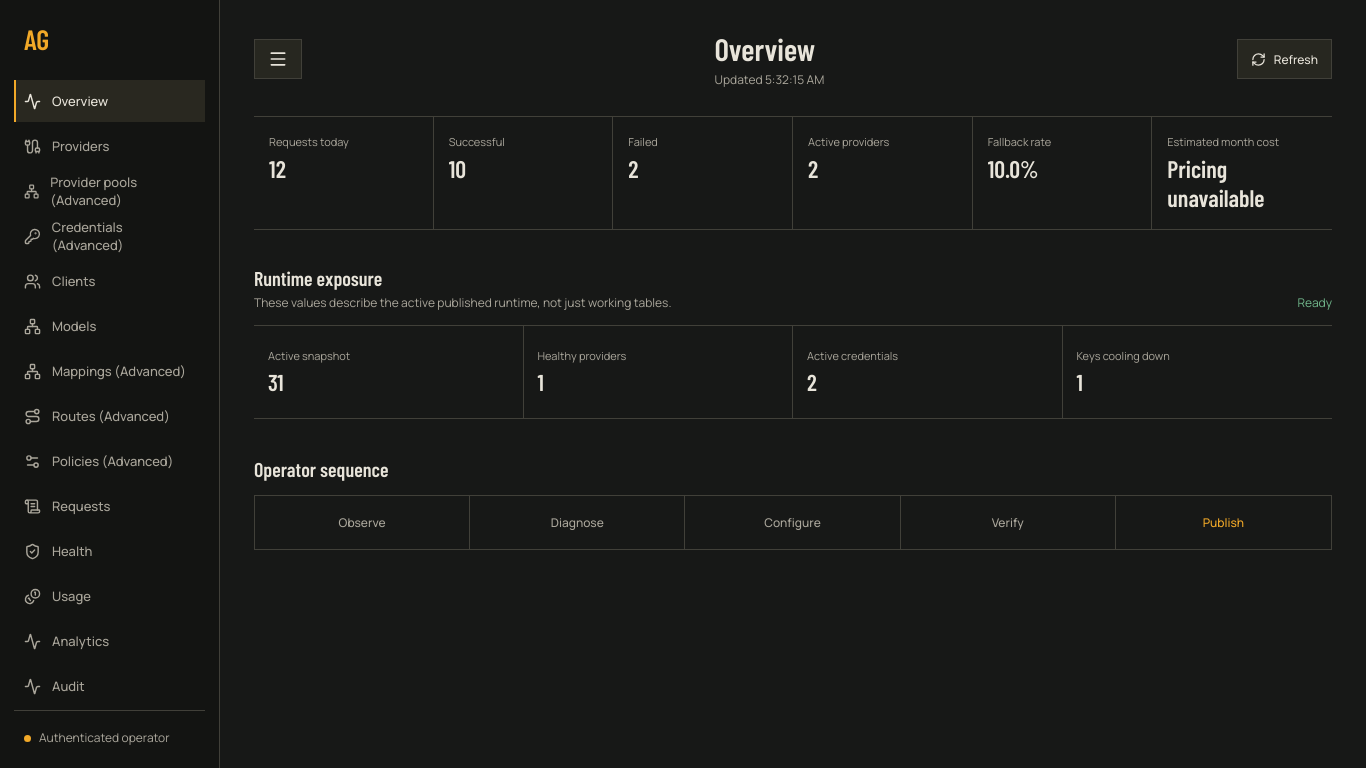
control plane › creates a provider and reports success
Click the button "Providers": x=110, y=146 [14,125,205,167]
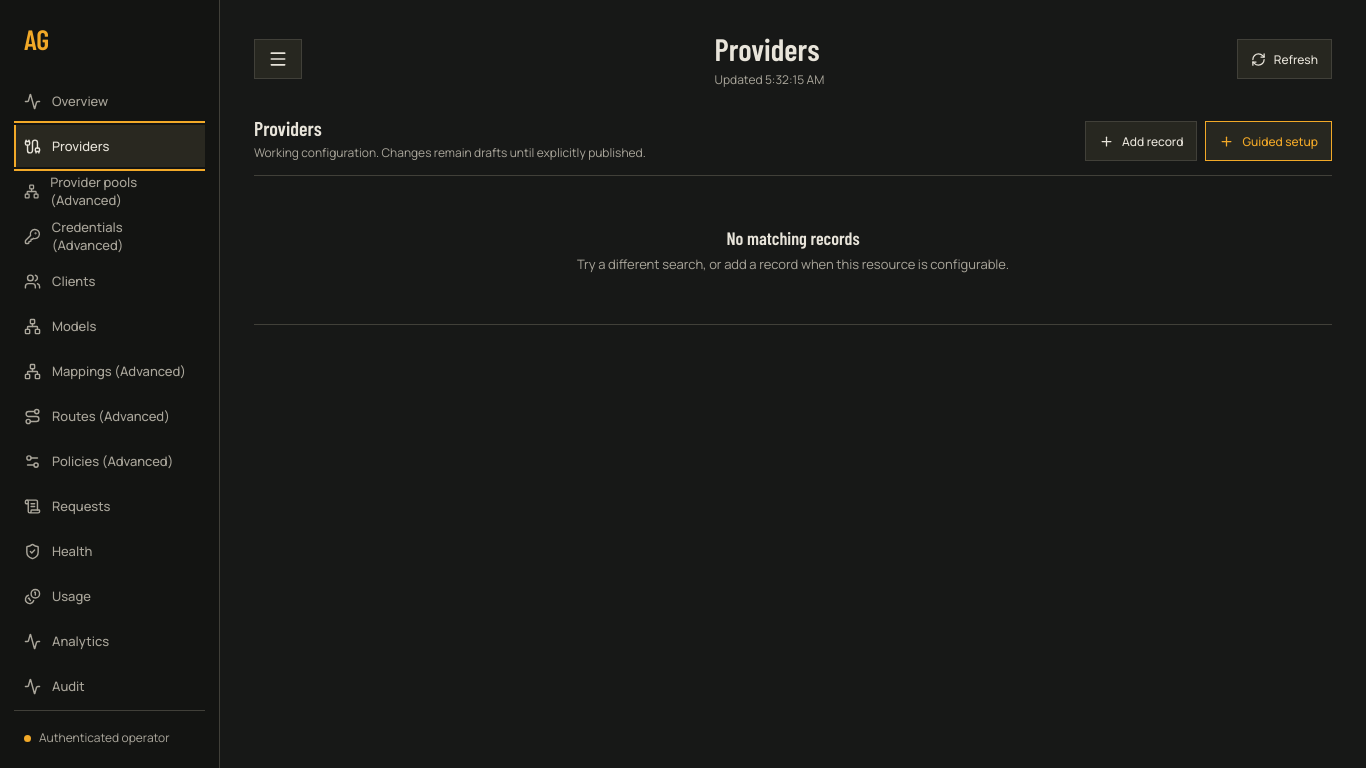
Click the button "Add record": x=1141, y=141 [1085,121,1197,161]
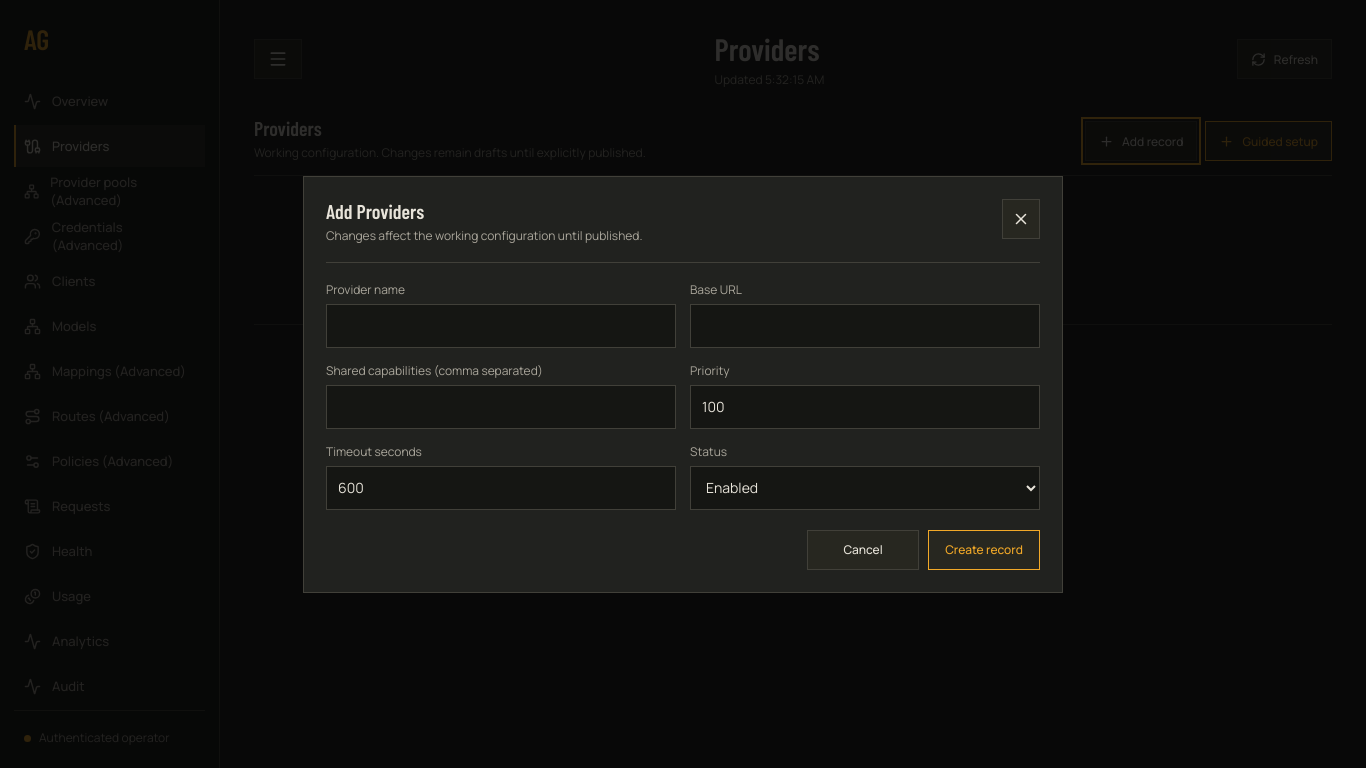
In the field labelled "Provider name": x=501, y=326 [326,304,676,348], type "New provider"
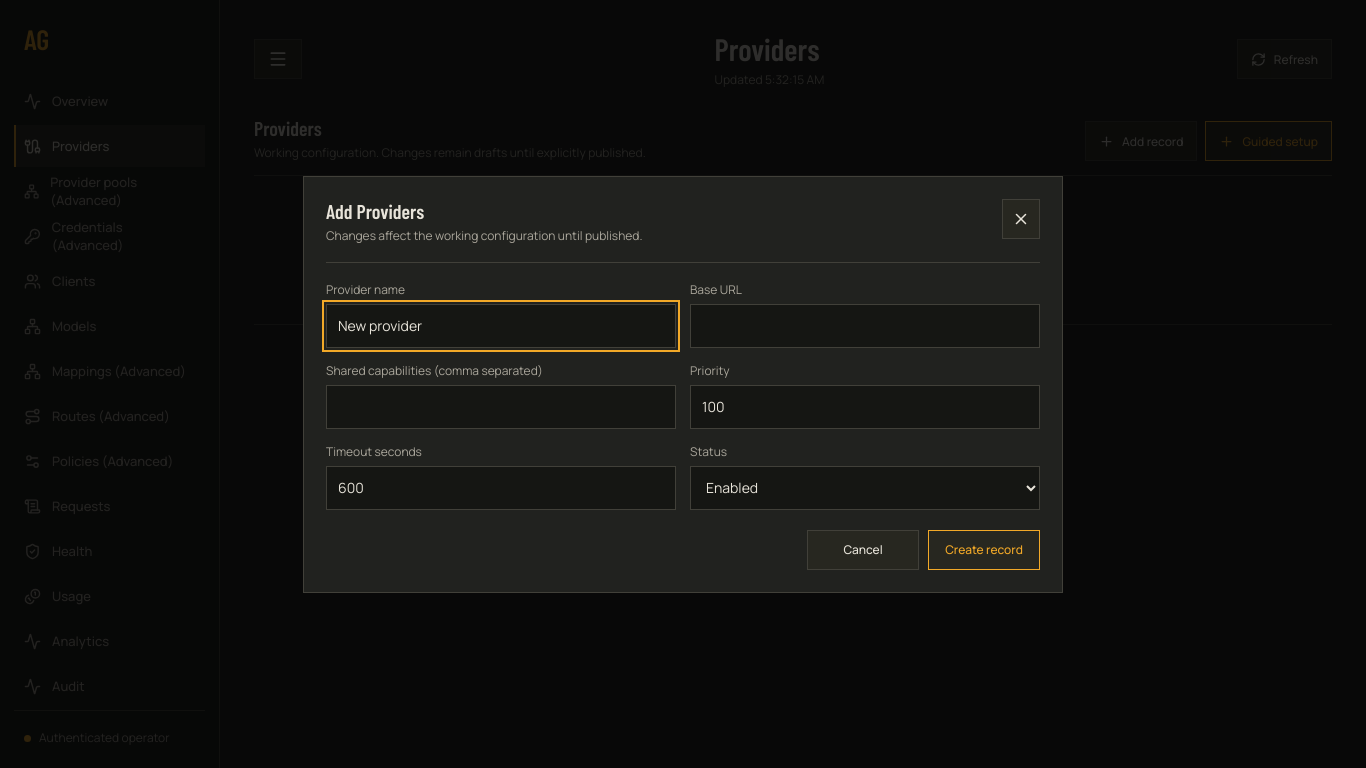
In the field labelled "Base URL": x=865, y=326 [690,304,1040,348], type "https://provider.example"
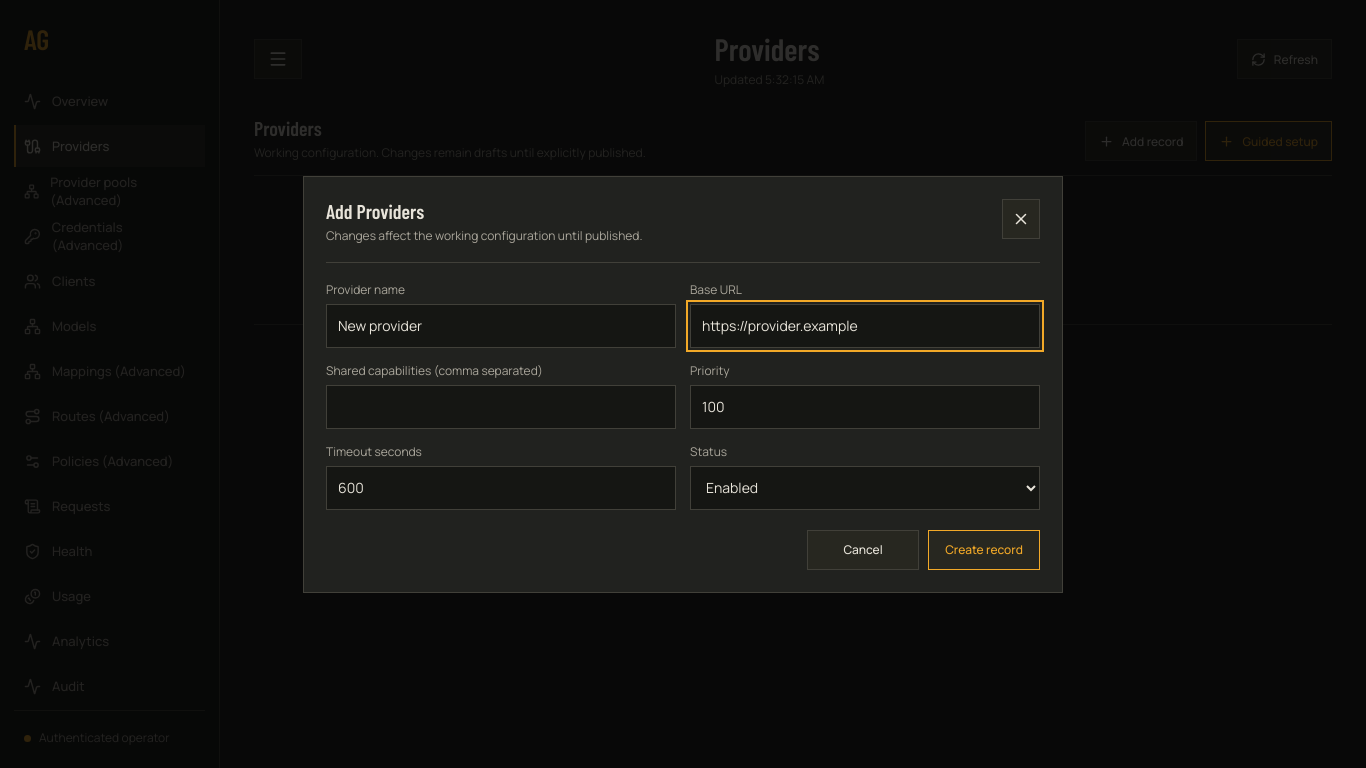
Click the button "Create record": x=984, y=550 [928,530,1040,570]
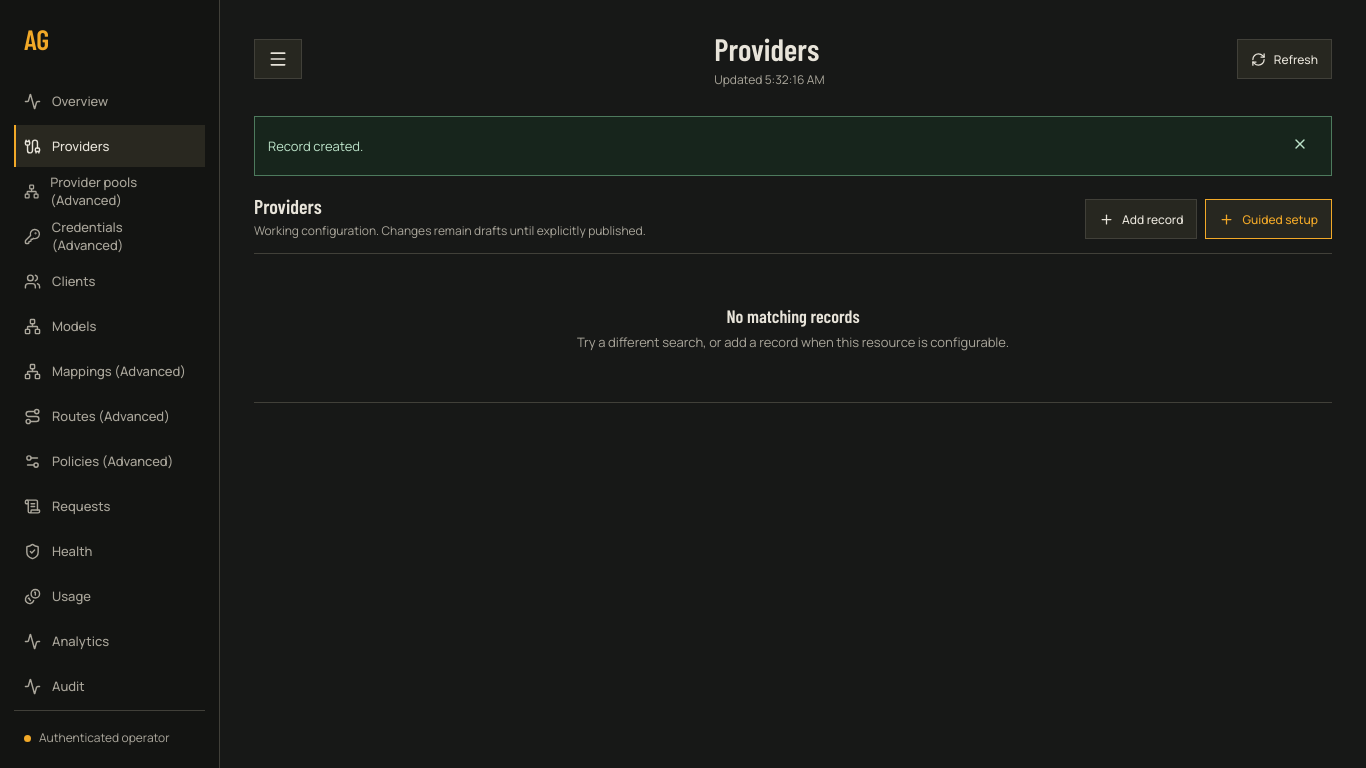
expect the text "Record created." is shown: met, box [268,137,363,155]
